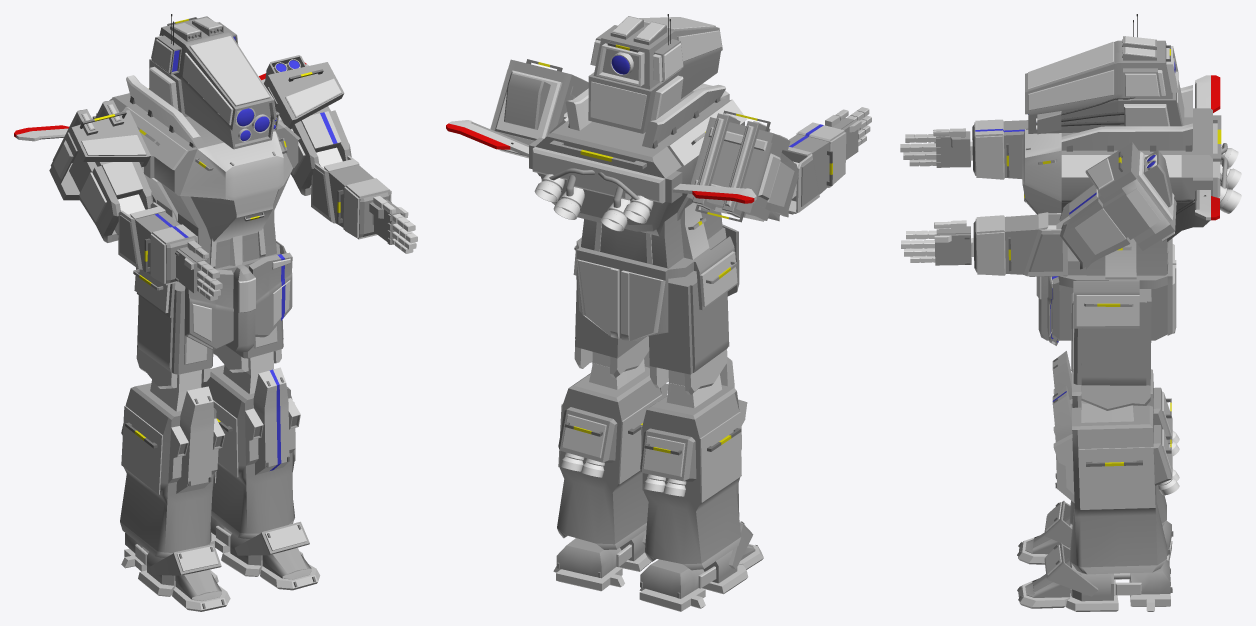
Rendered from New_Dash_MISCU_No_Rig.fbx.
The picture shows the model from 3 angles, left to right: view 1: azimuth 30°, elevation 25°; view 2: azimuth 150°, elevation 25°; view 3: azimuth 270°, elevation 25°; orthographic projection. The views are drawn at different scales.
Parts seen in each view (by area): view 1: Stance_No_rig_DASH; view 2: Stance_No_rig_DASH; view 3: Stance_No_rig_DASH.
Part boxes in pixels (x1,y1,x2,y2): Stance_No_rig_DASH: (14,14,417,611); Stance_No_rig_DASH: (446,14,871,611); Stance_No_rig_DASH: (900,14,1241,611).
Bounding box in the file's own units: 6.83 × 12.35 × 6.94.
